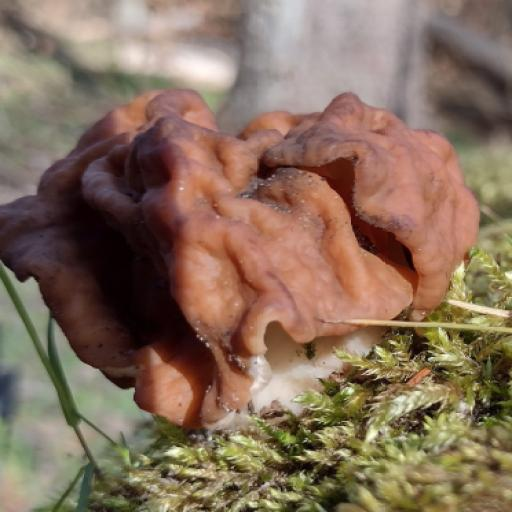False Morel: (0, 0, 512, 463)
